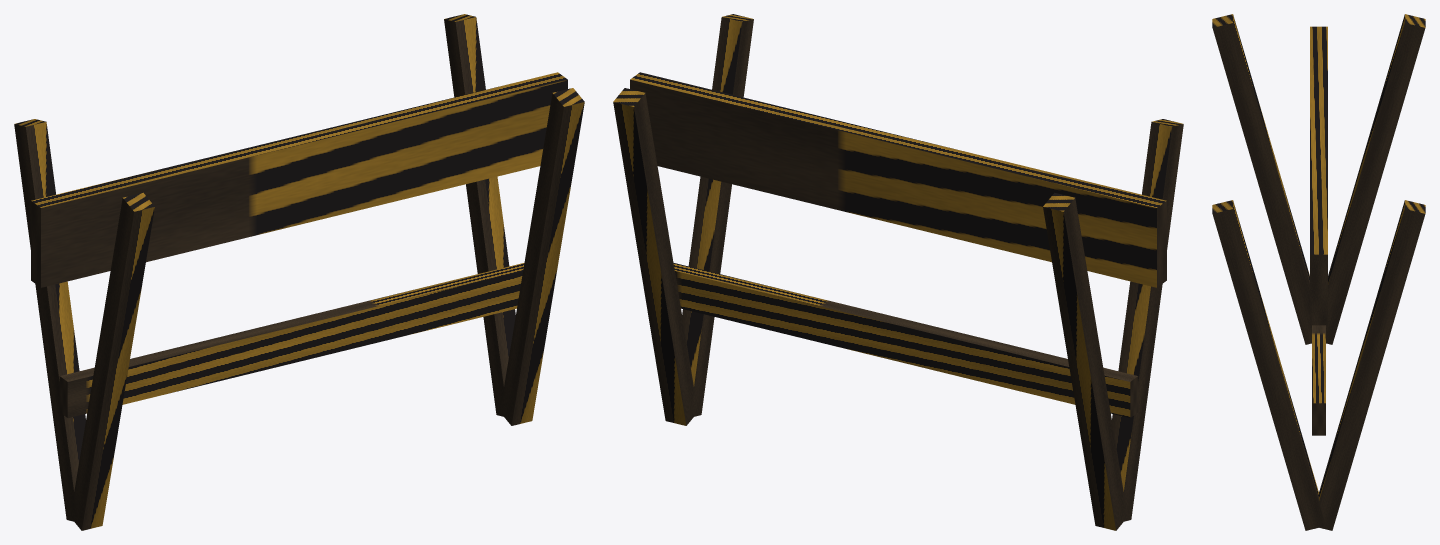
Rendered from barricade_interditado_1k.gltf.
The picture shows the model from 3 angles, left to right: view 1: azimuth 30°, elevation 25°; view 2: azimuth 150°, elevation 25°; view 3: azimuth 270°, elevation 25°; orthographic projection. The views are drawn at different scales.
Visible parts, largest first — view 1: barricade_interditado; view 2: barricade_interditado; view 3: barricade_interditado.
Part boxes in pixels (x1,y1,x2,y2): barricade_interditado: [14, 14, 584, 530]; barricade_interditado: [613, 14, 1183, 530]; barricade_interditado: [1212, 14, 1425, 530].
Bounding box in the file's own units: 1.52 × 1 × 0.6002.
Materials: 1 (1 with a texture image).
